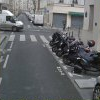crosswalk: (7, 34, 51, 41)
